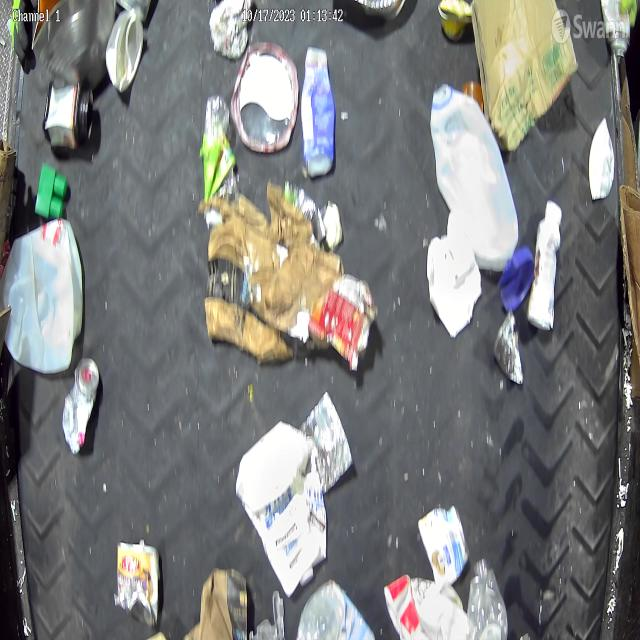can: (301, 393, 352, 494), (61, 349, 100, 454), (116, 541, 160, 627), (437, 1, 473, 40)
milk_jug: (235, 420, 327, 597), (432, 84, 520, 268), (3, 217, 85, 376)
plastic_bottle: (468, 555, 511, 640)
